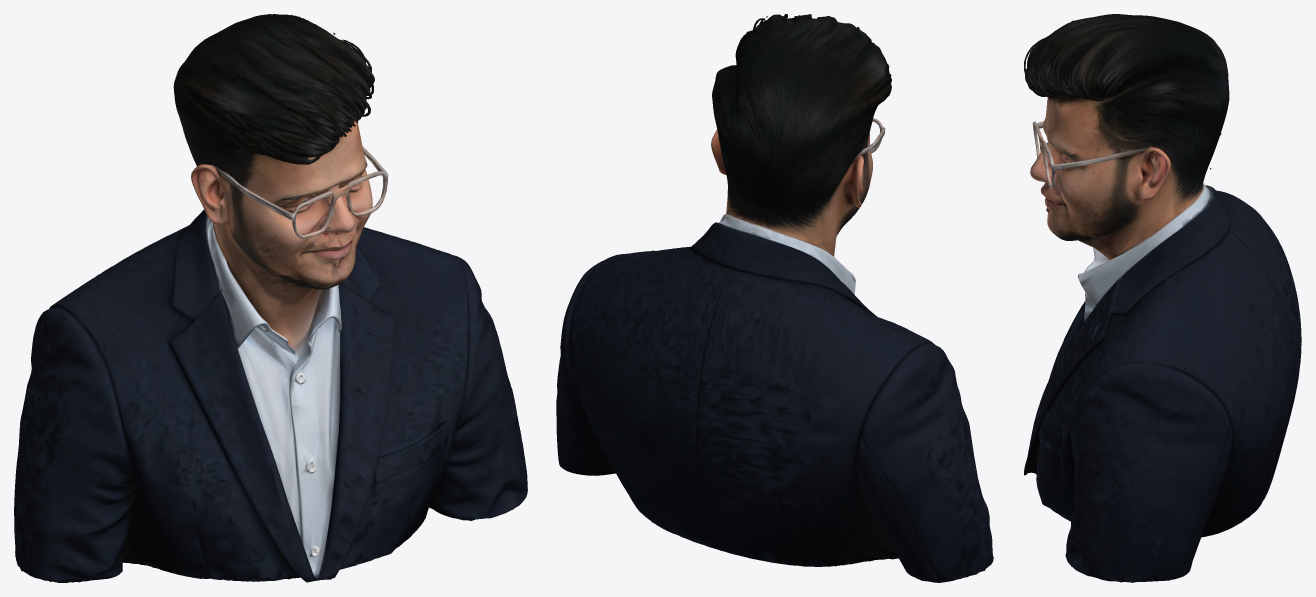
The model's file is aditya-model.glb.
The picture shows the model from 3 angles, left to right: view 1: azimuth 30°, elevation 25°; view 2: azimuth 150°, elevation 25°; view 3: azimuth 270°, elevation 25°; orthographic projection. The views are drawn at different scales.
Visible parts, largest first — view 1: world; view 2: world; view 3: world.
Part boxes in pixels (left/top/right/bottom): world: left=14, top=14, right=527, bottom=582; world: left=556, top=14, right=993, bottom=582; world: left=1024, top=14, right=1301, bottom=582.
Size of the model in its own units: 0.9691 by 0.9998 by 0.5507.
Materials: 1 (1 with a texture image).
